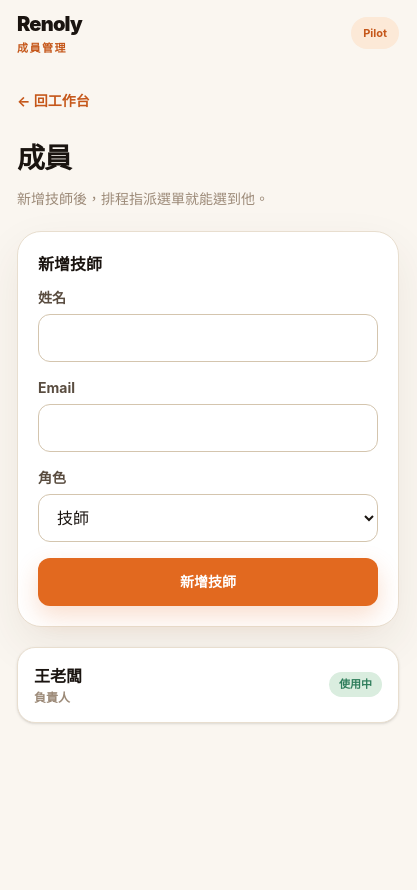
Test: TeamManagement › adds a technician and refetches the list on success
expect the text "王老闆" is shown: met, box [34,664,82,688]
Type "陳師傅" into the field labelled "姓名" at (208, 338), box [38,314,378,362]
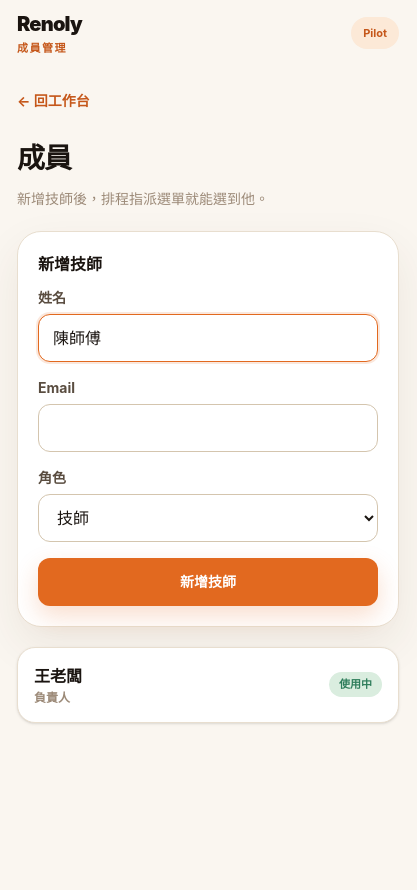
Type "chen@example.test" into the field labelled "Email" at (208, 428), box [38,404,378,452]
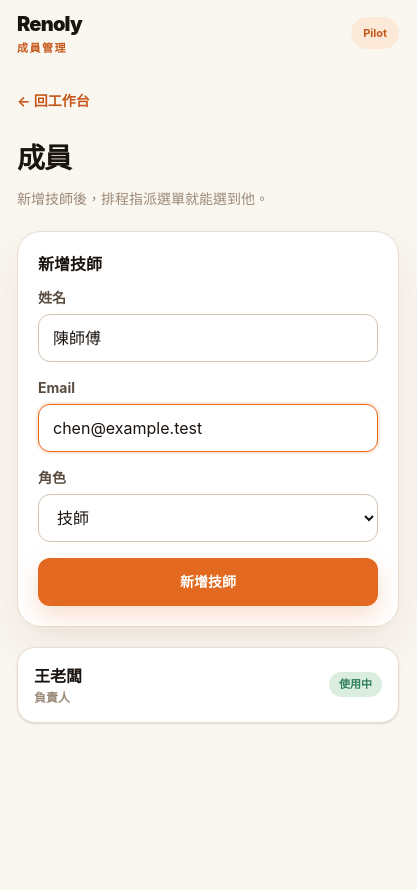
Click the button "新增技師" at (208, 582), box [38,558,378,606]
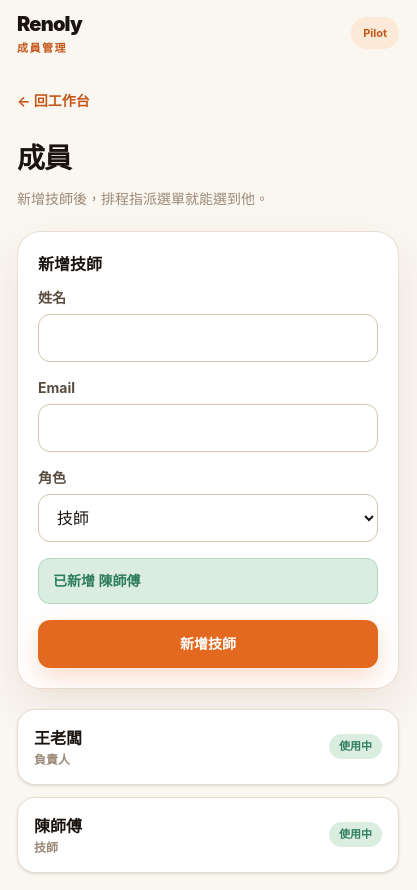
expect the message named "新增結果" shows "已新增": met, box [53,572,140,588]
expect the text "陳師傅" is shown: met, box [34,814,82,838]
